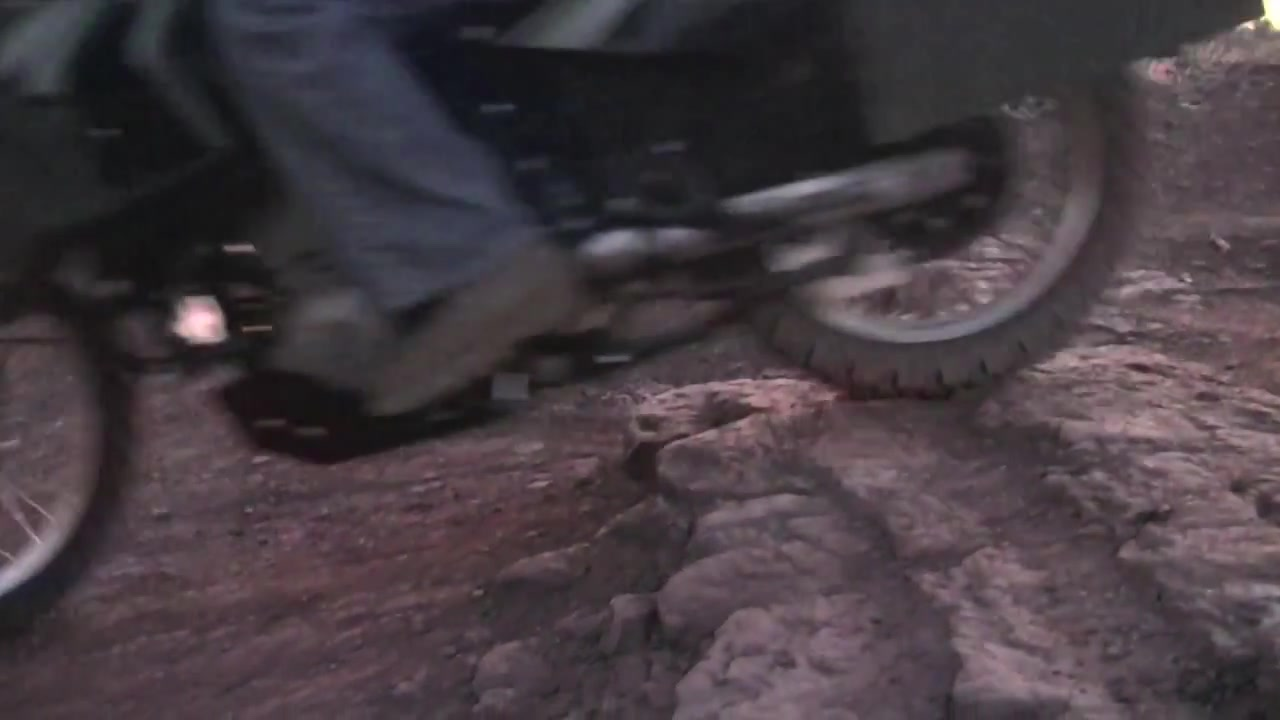motorbike: (1, 3, 1268, 674)
